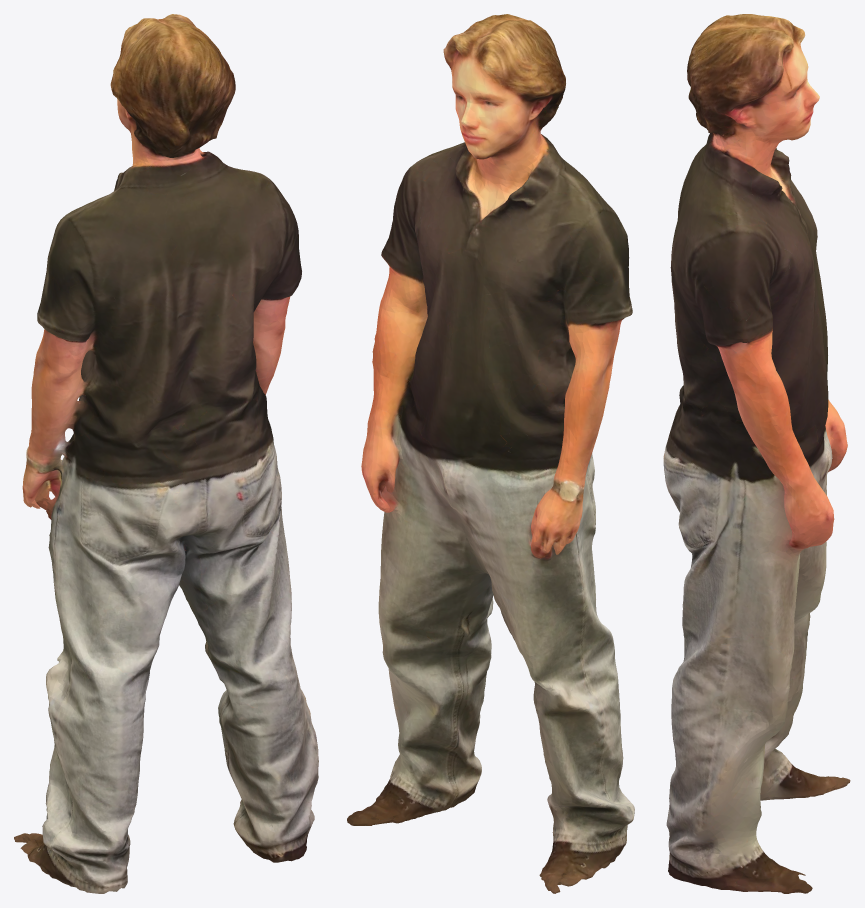
Rendered from scan.glb.
3 views of the same model, side by side, from view 1: azimuth 30°, elevation 25°; view 2: azimuth 150°, elevation 25°; view 3: azimuth 270°, elevation 25° (orthographic).
Bounding box in the file's own units: 0.5462 × 1.66 × 0.3458.
1 material, 1 textured.
